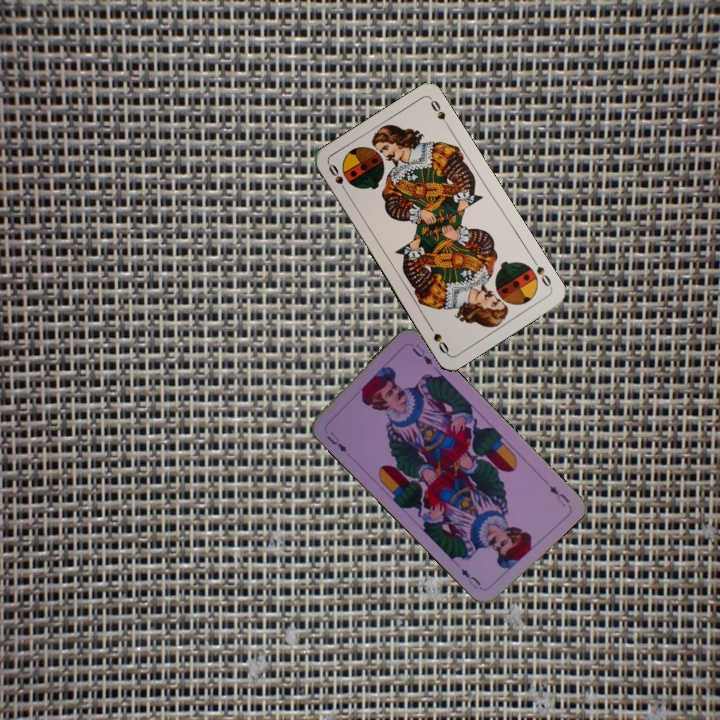EU: (545, 481, 572, 509), (322, 428, 349, 455)
SO: (324, 160, 351, 197), (528, 255, 555, 291)
